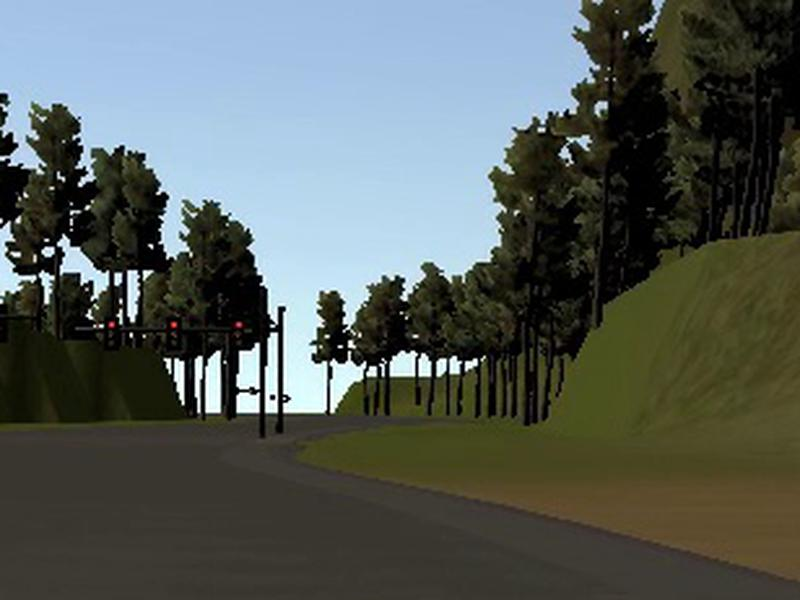Red: (103, 317, 123, 354), (166, 316, 183, 351), (233, 318, 246, 351)
